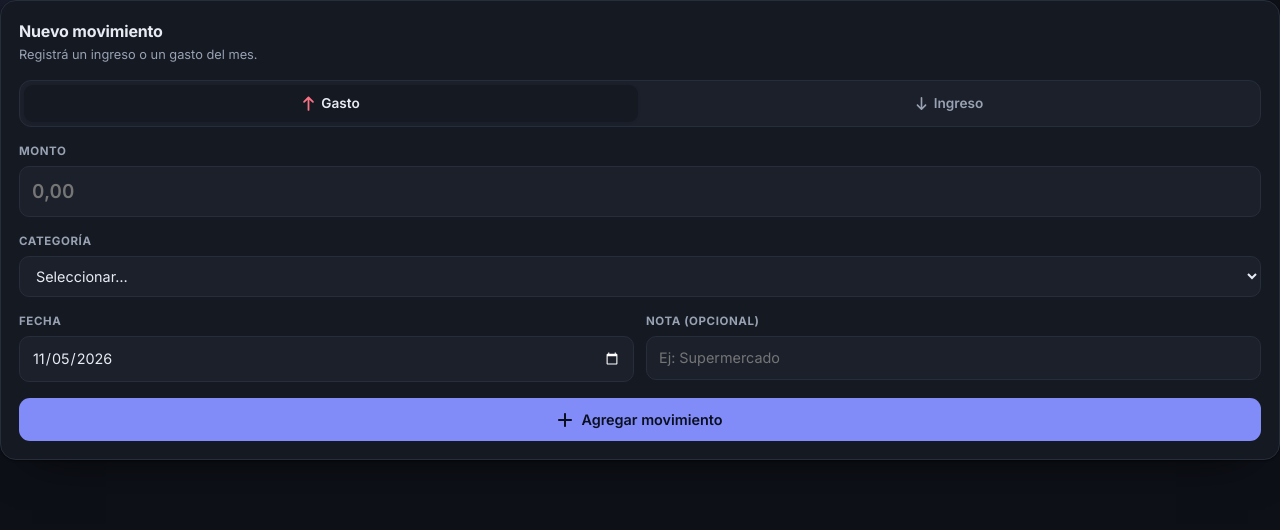
Test: TransactionForm › valida monto y categoría antes de guardar
Click the button "Agregar movimiento": [640, 420] box x1=19 y1=398 x2=1261 y2=441
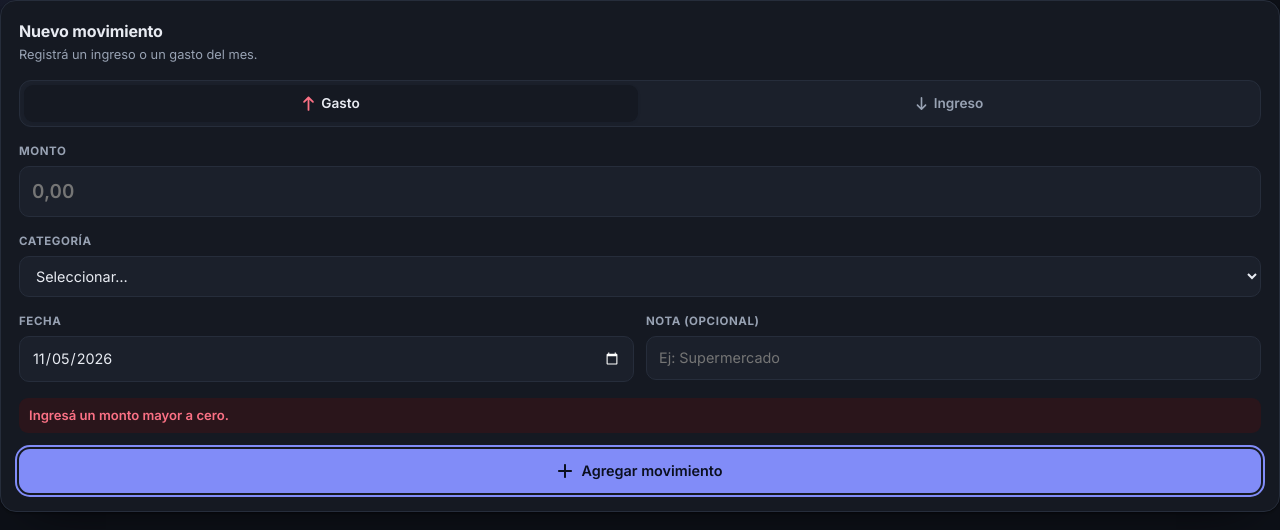
Expected: the message reads "Ingresá un monto mayor a cero.", x1=29 y1=407 x2=229 y2=423
In the field labelled "Monto": [640, 191] box x1=19 y1=166 x2=1261 y2=217, type "0"
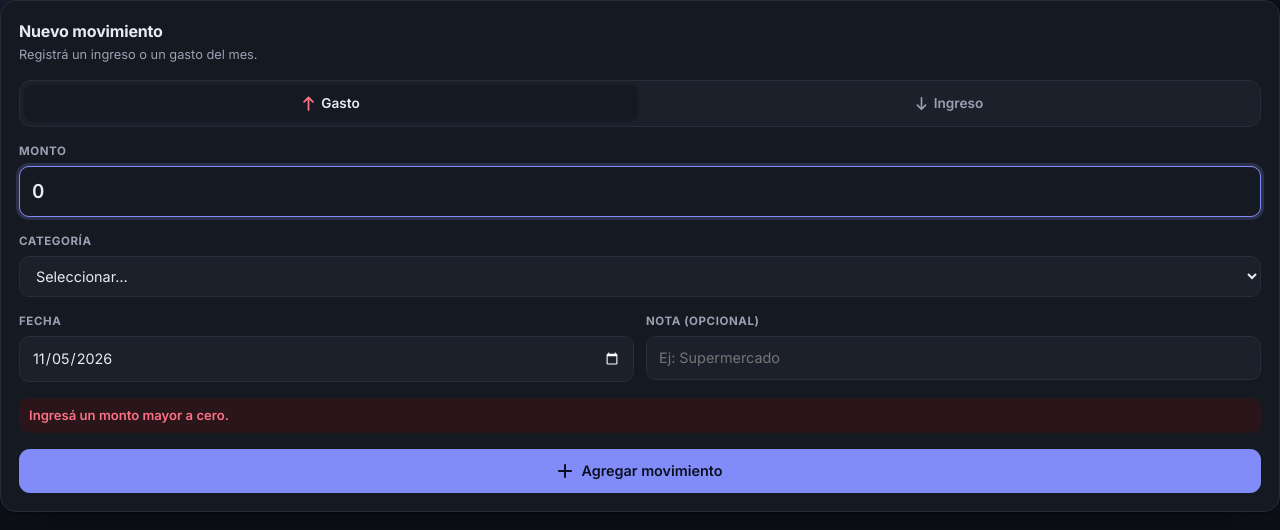
Click the button "Agregar movimiento": [640, 471] box x1=19 y1=450 x2=1261 y2=493
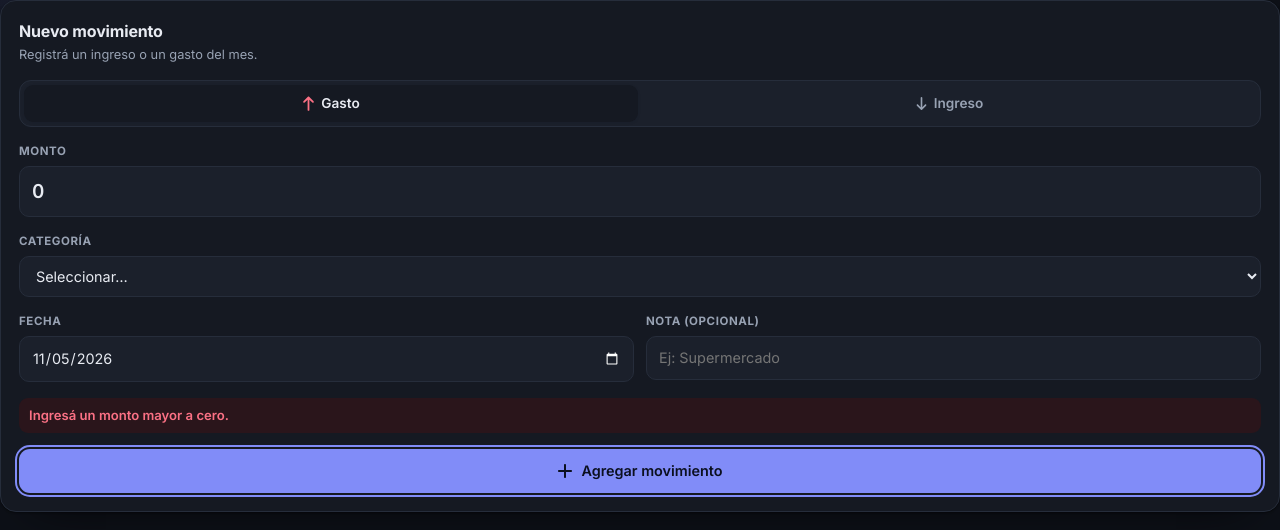
Replace the text in the field labelled "Monto" with "500": [640, 191] box x1=19 y1=166 x2=1261 y2=217
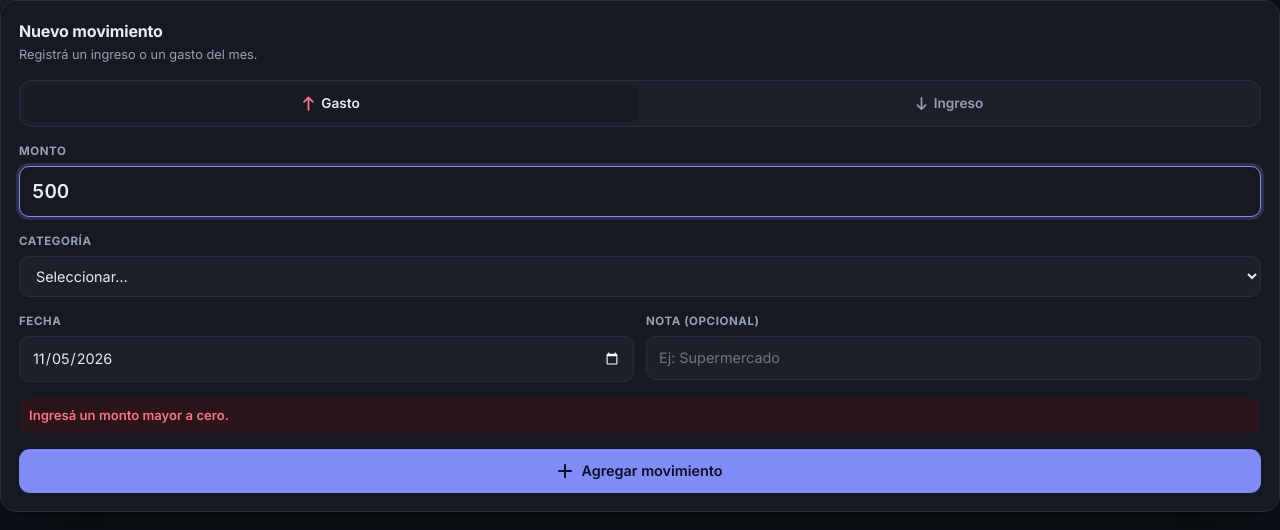
Click the button "Agregar movimiento": [640, 471] box x1=19 y1=450 x2=1261 y2=493
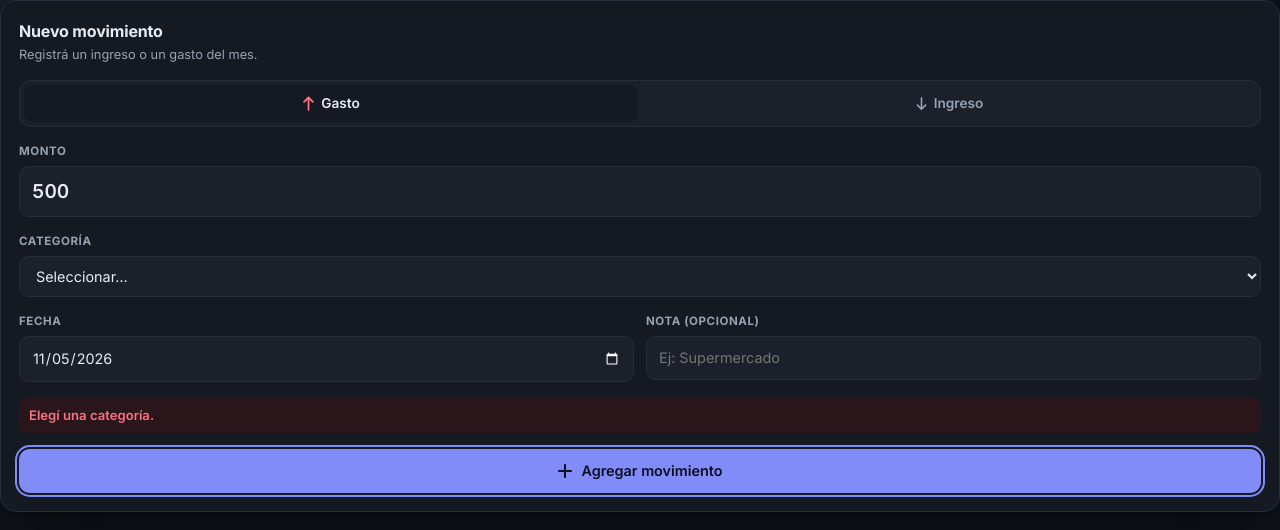
Expected: the message reads "Elegí una categoría.", x1=29 y1=407 x2=154 y2=423
